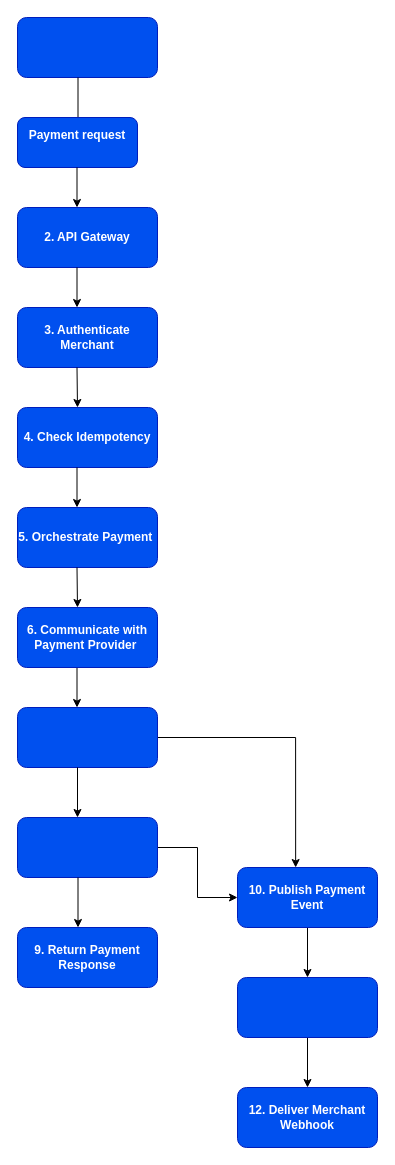
Some shapes in this 395 by 1165 pixel diagram are drawn without their labels. The shapes that lost their labels are listed below. From the top down, each one's centre as x and y in pixels, then its label:
At point (87, 47): "1. Merchant Application".
At point (87, 737): "7. Update Payment State".
At point (87, 847): "8. Post Ledger Entries".
At point (307, 1007): "11. Process Event Asynchronously".
